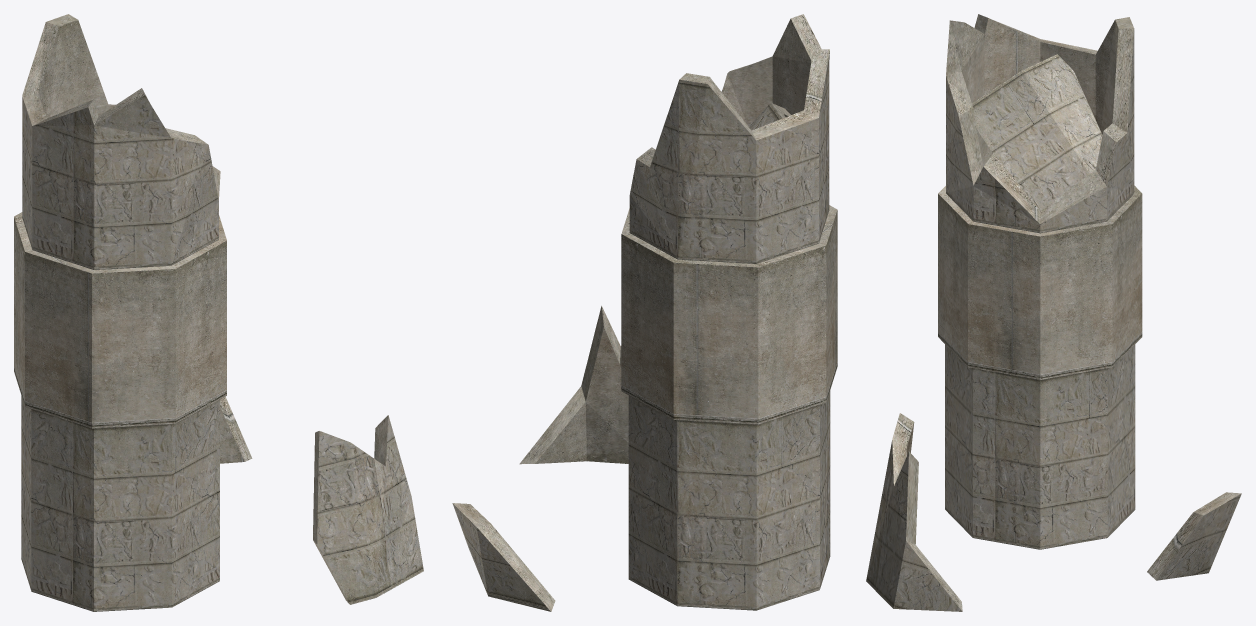
File: poi_all_obelisk_s01_l2.fbx
3 renders of one model, left to right at view 1: azimuth 30°, elevation 25°; view 2: azimuth 150°, elevation 25°; view 3: azimuth 270°, elevation 25°, orthographic. The views are drawn at different scales.
Parts seen in each view (by area): view 1: mesh_node; view 2: mesh_node; view 3: mesh_node.
Part boxes in pixels (x1,y1,x2,y2): mesh_node: (14, 14, 423, 611); mesh_node: (452, 14, 837, 611); mesh_node: (866, 14, 1241, 611).
Size of the model in its own units: 23.22 by 33.64 by 23.68.
